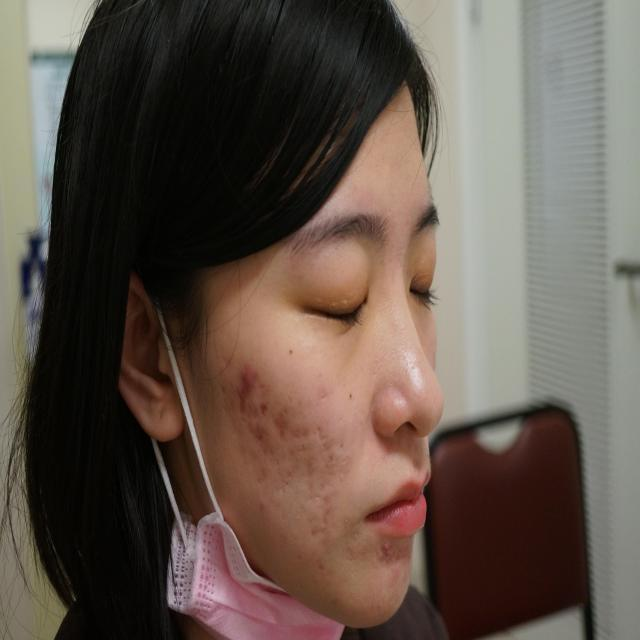acne: (229, 358, 253, 390), (231, 391, 258, 417), (309, 412, 331, 443), (246, 417, 271, 444), (380, 567, 400, 593), (294, 454, 315, 478), (374, 539, 395, 562), (248, 496, 267, 521), (259, 436, 280, 457), (274, 405, 289, 430), (254, 387, 266, 412), (291, 422, 305, 443), (319, 489, 333, 510), (257, 461, 270, 482)
